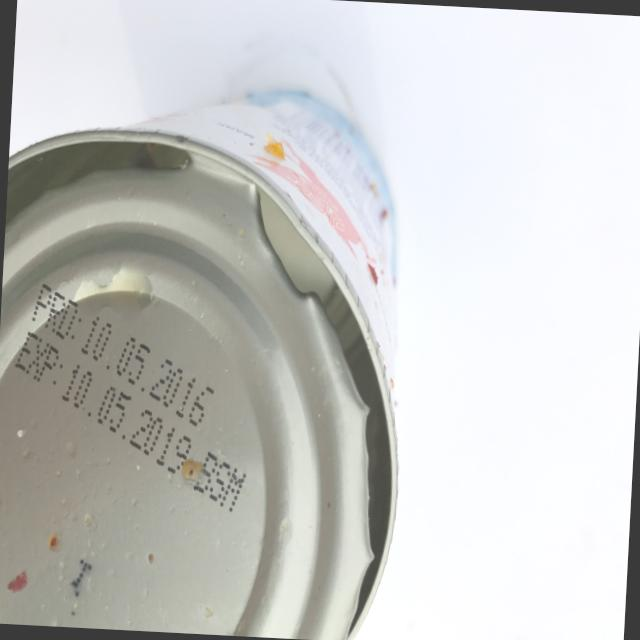Metal: (0, 57, 441, 640)
